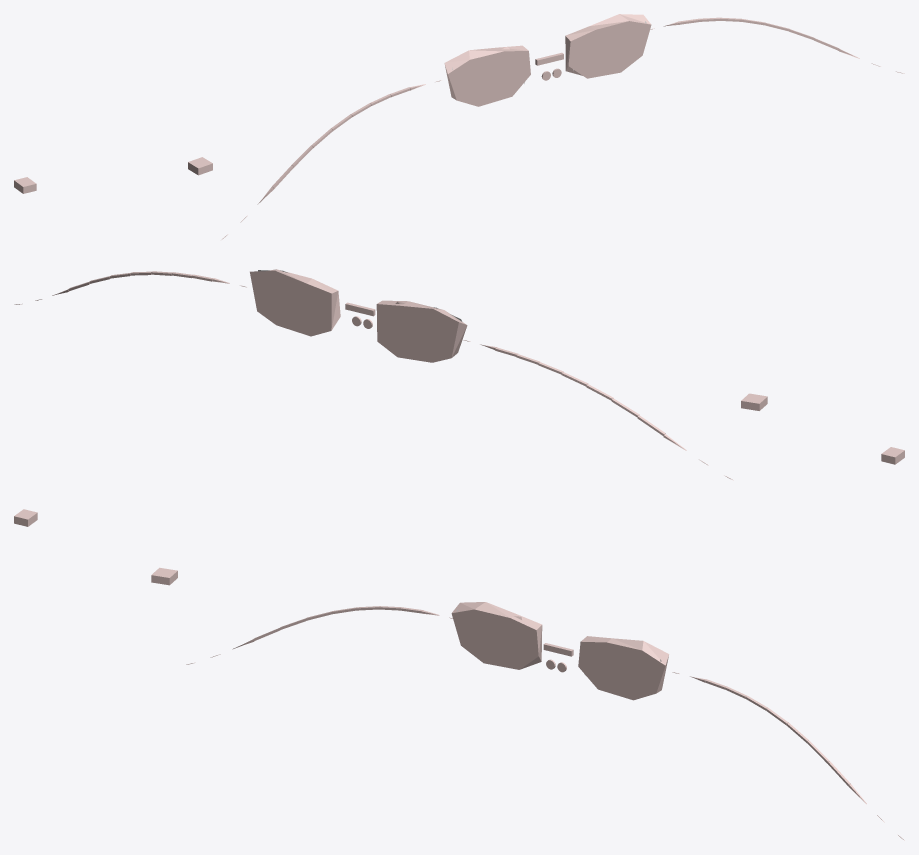
3 views of the same model, one above another, from view 1: azimuth 30°, elevation 25°; view 2: azimuth 150°, elevation 25°; view 3: azimuth 330°, elevation 25° (orthographic). The views are drawn at different scales.
Visible parts, largest first — view 1: Frame, LeftTemple, RightTemple, TempleTips; view 2: Frame, LeftTemple, TempleTips, RightTemple; view 3: Frame, RightTemple, LeftTemple, TempleTips.
Boxes of the visible parts, x1,y1,x2,y2 form: Frame: (444, 14, 651, 106); LeftTemple: (221, 80, 441, 239); RightTemple: (650, 17, 904, 73); TempleTips: (14, 157, 212, 193); Frame: (250, 269, 467, 362); LeftTemple: (462, 339, 733, 480); TempleTips: (741, 393, 904, 464); RightTemple: (14, 271, 246, 304); Frame: (451, 602, 669, 700); RightTemple: (672, 672, 904, 840); LeftTemple: (186, 606, 452, 664); TempleTips: (14, 509, 177, 585).
Bounding box in the file's own units: 518 × 64.03 × 32.78.
